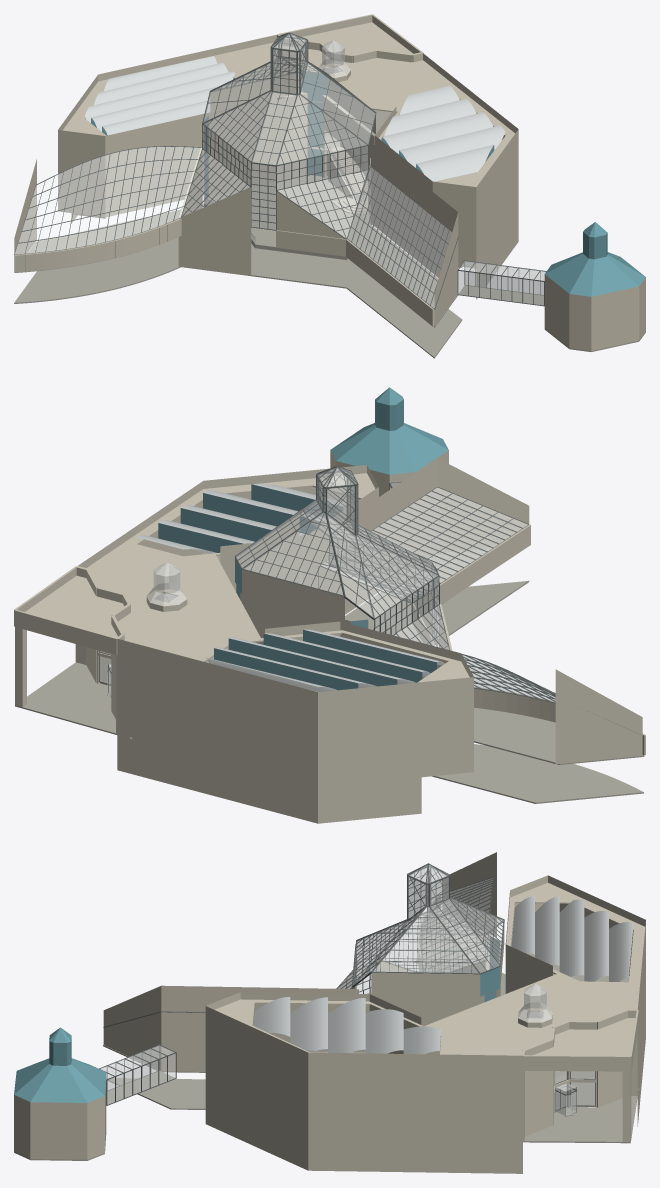
The model's file is MUDAM_R09_OKUMA_MEKANI_v001_preview.glb.
3 renders of one model, top to bottom at view 1: azimuth 30°, elevation 25°; view 2: azimuth 150°, elevation 25°; view 3: azimuth 270°, elevation 25°, orthographic. The views are drawn at different scales.
Visible parts, largest first — view 1: P05_ZONE_LM1_GALLERIES_FOYER, P05_MAIN_ROOF_DECK, P05_GALLERY_HALL_WEST1, P05_MAIN_ATRIUM_BASE_3, P05_EAST_HIGH_R02_BEFORE, P04_PAV_WALL_ENVELOPE, R07_STAIRWELL_STONE_NORTH, P05_FRONT_0, P05_FLOOR_L00_GH, P05_GALLERY_HALL_WEST2, P04_PAV_ROOF_SLOPE, P05_FLOOR_L00_EAST_GARDEN (+20 smaller); view 2: P05_FRONT_9, P05_MAIN_ROOF_DECK, P05_FRONT_10, P05_ZONE_LM1_GALLERIES_FOYER, P05_EAST_HIGH_R02_BEFORE, P05_WEST_END, P05_EAST_END, P05_GALLERY_HALL_WEST3, P04_PAV_ROOF_SLOPE, P07_CANOPY_PAVING_DISPLAY, P05_FLOOR_L00_WEST_CAFE, P07_CANOPY_SLAB_ENVELOPE (+25 smaller); view 3: P05_FRONT_1, P05_MAIN_ROOF_DECK, P05_FRONT_0, P04_PAV_WALL_ENVELOPE, P05_EAST_HIGH_R02_BEFORE, P05_EAST_END, P04_PAV_ROOF_SLOPE, P07_CANOPY_PAVING_DISPLAY, P06_HIGH_EAVE_UPSTAND_5, P07_CANOPY_SLAB_ENVELOPE, P05_WEST_END, P07_ENTRY_RETURN_1 (+15 smaller).
Part boxes in pixels (x1,y1,x2,y2): P05_ZONE_LM1_GALLERIES_FOYER: (14, 237, 462, 358); P05_MAIN_ROOF_DECK: (62, 42, 517, 186); P05_GALLERY_HALL_WEST1: (105, 112, 212, 217); P05_MAIN_ATRIUM_BASE_3: (208, 93, 307, 196); P05_EAST_HIGH_R02_BEFORE: (370, 142, 457, 277); P04_PAV_WALL_ENVELOPE: (544, 274, 645, 350); R07_STAIRWELL_STONE_NORTH: (178, 187, 251, 275); P05_FRONT_0: (476, 129, 518, 299); P05_FLOOR_L00_GH: (204, 176, 370, 257); P05_GALLERY_HALL_WEST2: (58, 130, 105, 217); P04_PAV_ROOF_SLOPE: (545, 252, 645, 296); P05_FLOOR_L00_EAST_GARDEN: (348, 224, 457, 327); P05_FRONT_9: (117, 639, 317, 823); P05_MAIN_ROOF_DECK: (86, 473, 473, 701); P05_FRONT_10: (318, 682, 421, 823); P05_ZONE_LM1_GALLERIES_FOYER: (432, 581, 643, 803); P05_EAST_HIGH_R02_BEFORE: (319, 458, 437, 614); P05_WEST_END: (555, 669, 642, 764); P05_EAST_END: (437, 458, 529, 552); P05_GALLERY_HALL_WEST3: (421, 677, 473, 777); P04_PAV_ROOF_SLOPE: (330, 423, 448, 474); P07_CANOPY_PAVING_DISPLAY: (15, 662, 117, 734); P05_FLOOR_L00_WEST_CAFE: (474, 707, 644, 764); P07_CANOPY_SLAB_ENVELOPE: (25, 575, 124, 637); P05_FRONT_1: (308, 1052, 522, 1173); P05_MAIN_ROOF_DECK: (207, 883, 645, 1064); P05_FRONT_0: (205, 1006, 308, 1170); P04_PAV_WALL_ENVELOPE: (14, 1077, 106, 1159); P05_EAST_HIGH_R02_BEFORE: (161, 985, 358, 1071); P05_EAST_END: (103, 986, 161, 1070); P04_PAV_ROOF_SLOPE: (14, 1058, 106, 1102); P07_CANOPY_PAVING_DISPLAY: (523, 1096, 637, 1143); P06_HIGH_EAVE_UPSTAND_5: (371, 972, 480, 996); P07_CANOPY_SLAB_ENVELOPE: (533, 1018, 635, 1055); P05_WEST_END: (442, 852, 496, 937); P07_ENTRY_RETURN_1: (522, 1039, 553, 1136).
Size of the model in its own units: 80.45 by 35.94 by 93.28.
